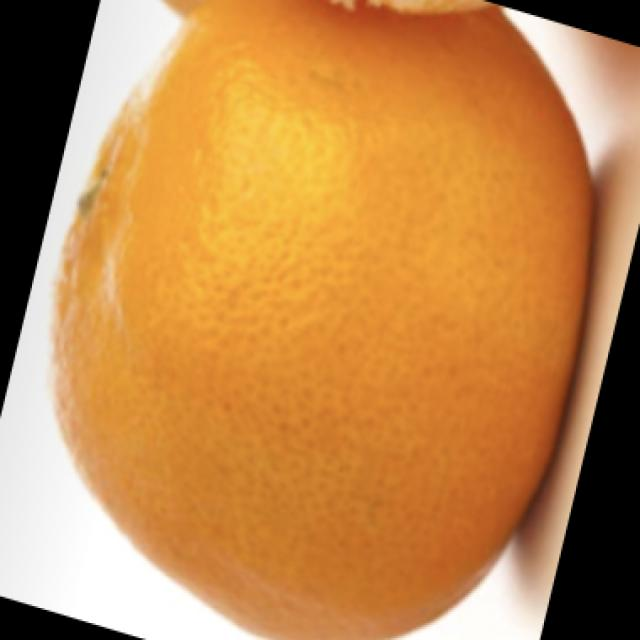fresh: (23, 0, 594, 640)
